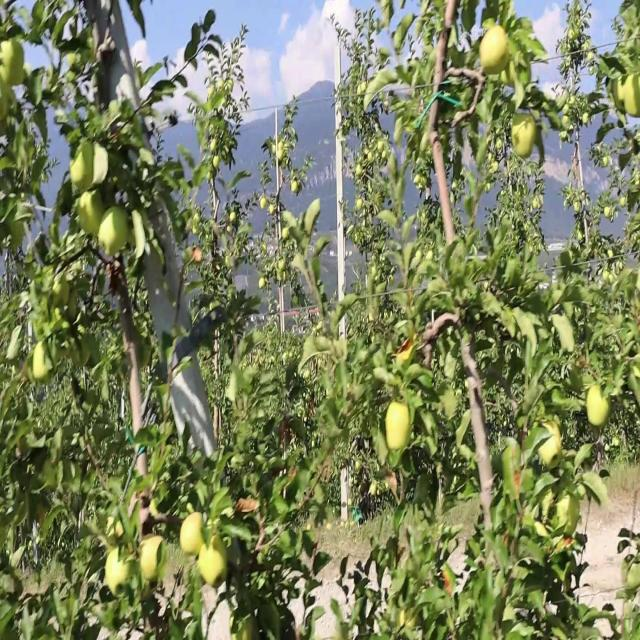apple: (200, 533, 229, 590), (100, 206, 129, 258), (480, 28, 509, 78), (80, 191, 107, 240), (512, 113, 538, 162), (0, 42, 27, 89), (72, 149, 98, 194), (588, 383, 612, 430), (180, 511, 204, 558), (388, 405, 412, 450), (540, 426, 564, 471), (32, 341, 55, 386), (556, 490, 580, 532), (140, 540, 162, 585), (108, 547, 127, 597), (128, 490, 150, 528), (504, 56, 528, 89), (624, 78, 640, 121), (8, 213, 27, 247), (52, 277, 72, 309), (396, 341, 415, 373), (608, 78, 624, 114), (0, 87, 11, 123), (480, 7, 497, 30), (24, 355, 37, 384), (616, 78, 625, 114), (28, 350, 38, 382), (244, 618, 259, 639), (416, 170, 430, 192), (404, 611, 420, 629), (448, 0, 458, 27), (544, 490, 554, 517), (444, 568, 453, 597), (632, 362, 640, 389), (560, 113, 571, 128), (552, 113, 560, 133), (116, 519, 124, 539), (356, 163, 364, 180), (604, 206, 613, 220), (260, 277, 267, 292), (260, 199, 268, 212), (604, 156, 610, 169)
